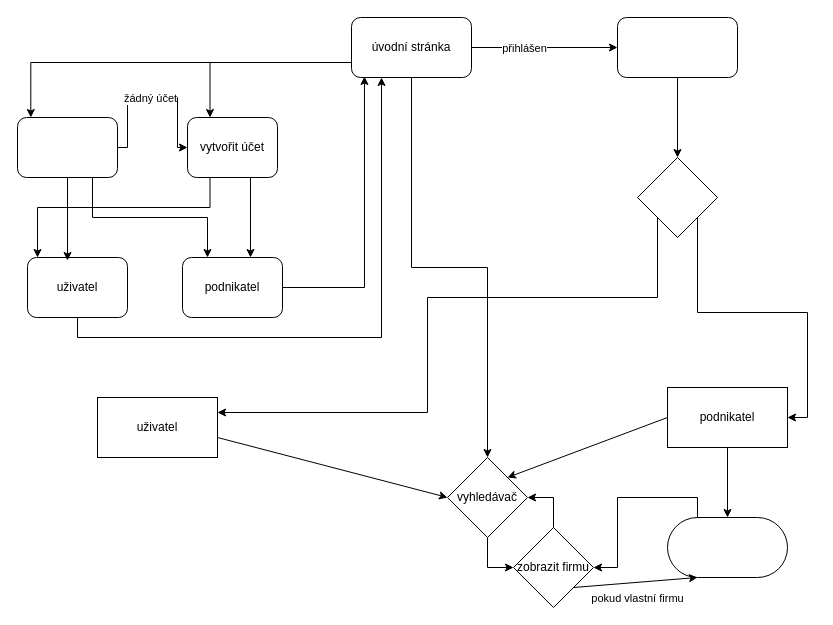
This 833x625 diagram has some shape labels left out. Each missing label, with the centre of its shape:
editor firmy: (727,547)
přihlásit: (67,147)
typ účtu: (677,197)
účet: (677,47)
